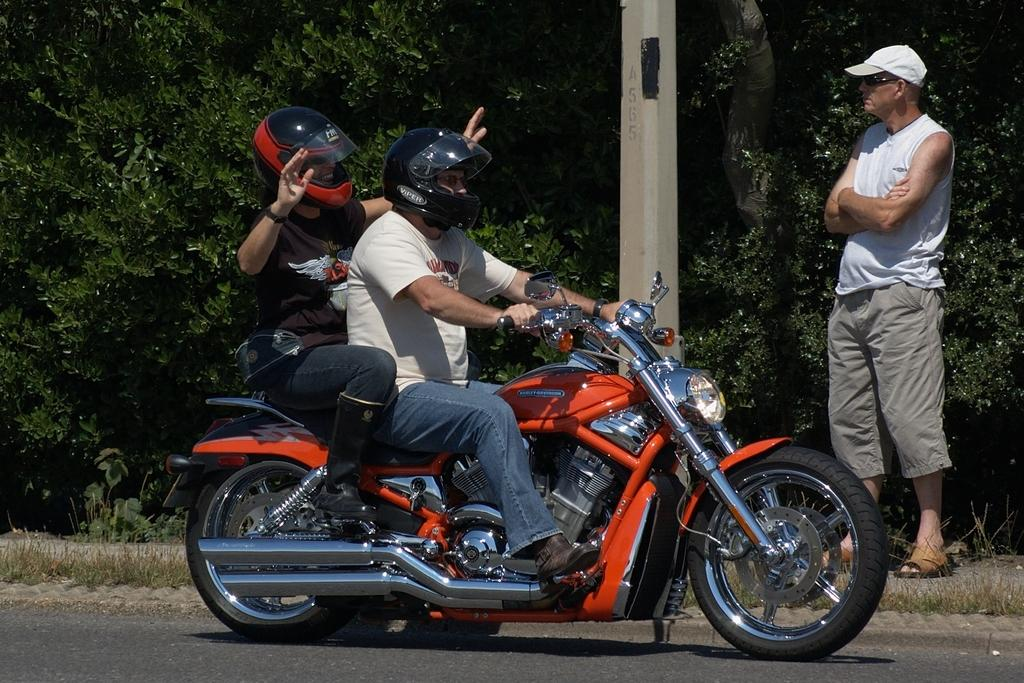helmet: (381, 127, 493, 230), (252, 106, 357, 210)
nohelmet: (843, 43, 929, 119)
